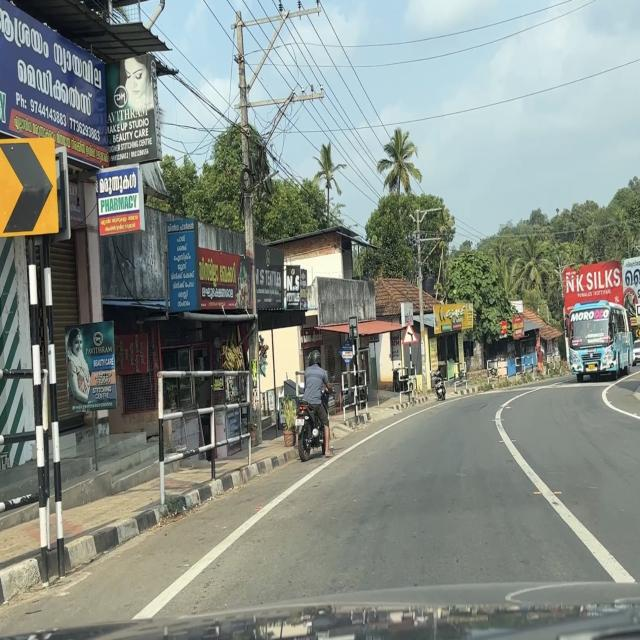LEFT_TURN_AHEAD: (401, 321, 419, 345)
TURN_RIGHT: (0, 136, 61, 238)
